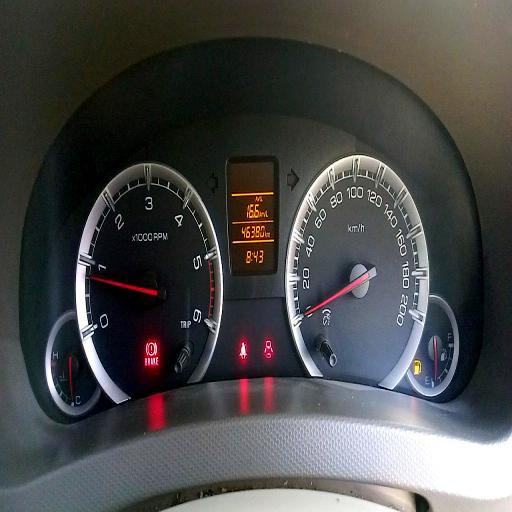belt: (239, 341, 247, 360)
brake_system_fault: (146, 343, 157, 356)
tachometer: (74, 160, 223, 397)
